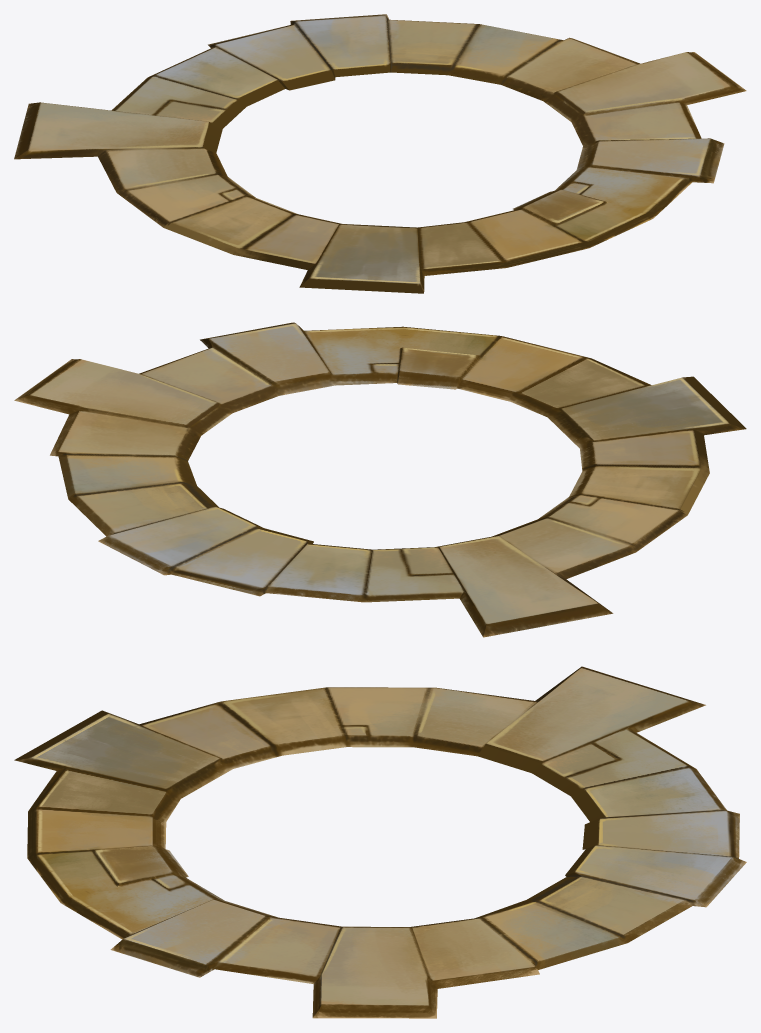
File: Koto_ring.fbx
3 views of the same model, one above another, from view 1: azimuth 30°, elevation 25°; view 2: azimuth 150°, elevation 25°; view 3: azimuth 270°, elevation 25° (orthographic). The views are drawn at different scales.
Visible parts, largest first — view 1: Center_Circle; view 2: Center_Circle; view 3: Center_Circle.
Boxes of the visible parts, x1=… form: Center_Circle: x1=14, y1=14, x2=746, y2=293; Center_Circle: x1=14, y1=322, x2=746, y2=637; Center_Circle: x1=14, y1=666, x2=746, y2=1018.
Size of the model in its own units: 34.6 by 0.3843 by 30.27.
